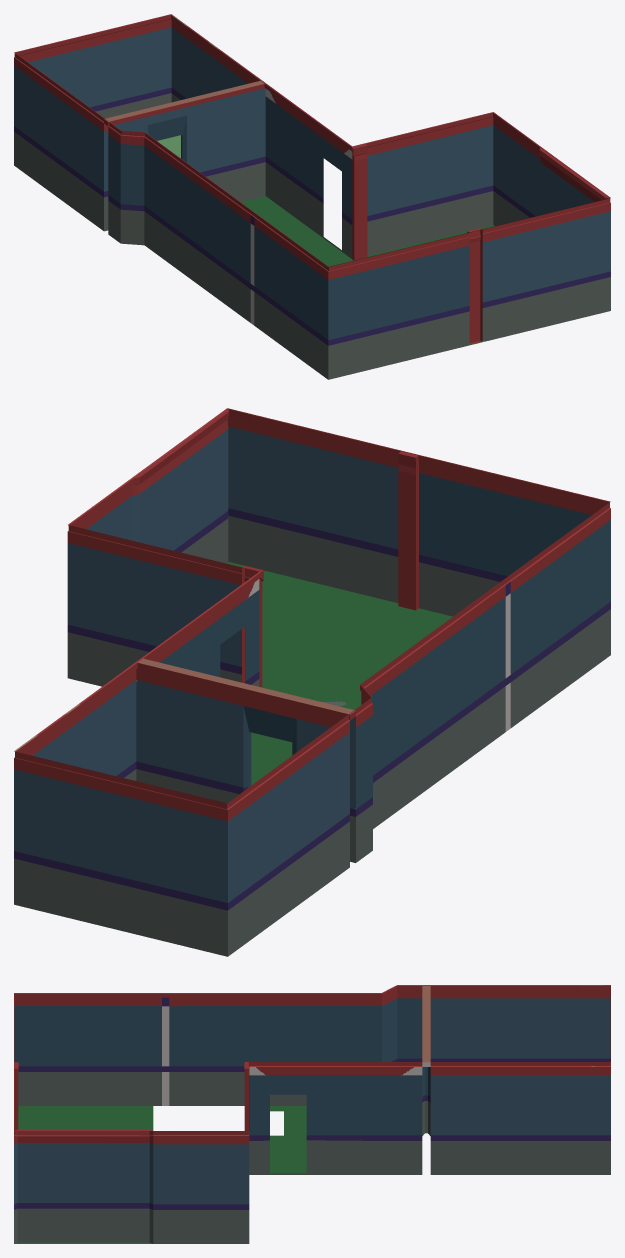
Rendered from M_InHouse_Up.fbx.
3 views of the same model, one above another, from view 1: azimuth 30°, elevation 25°; view 2: azimuth 150°, elevation 25°; view 3: azimuth 270°, elevation 25° (orthographic). The views are drawn at different scales.
Parts seen in each view (by area): view 1: House_Up; view 2: House_Up; view 3: House_Up.
Part boxes in pixels (x1,y1,x2,y2): House_Up: (14,14,610,379); House_Up: (14,408,610,956); House_Up: (14,985,610,1243).
Bounding box in the file's own units: 779 × 281 × 1347.
